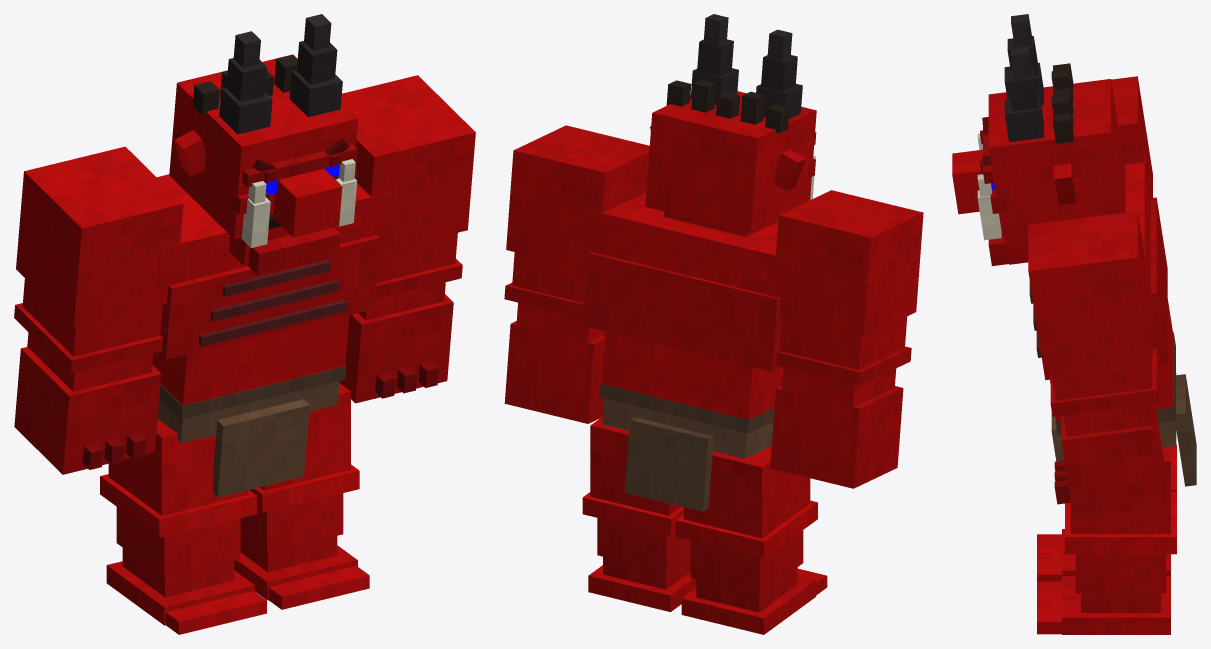
The model's file is ogre_s1_evo1.glb.
3 renders of one model, left to right at view 1: azimuth 30°, elevation 25°; view 2: azimuth 150°, elevation 25°; view 3: azimuth 270°, elevation 25°, orthographic. The views are drawn at different scales.
Visible parts, largest first — view 1: ArmR, Torso, Head, ArmL, LegR, LegL; view 2: Torso, ArmR, ArmL, Head, LegR, LegL; view 3: ArmL, Head, LegL, Torso, ArmR, LegR.
Boxes of the visible parts, x1=… form: ArmR: x1=14, y1=146, x2=183, y2=474; Torso: x1=152, y1=174, x2=390, y2=497; Head: x1=169, y1=14, x2=358, y2=275; ArmL: x1=339, y1=75, x2=475, y2=403; LegR: x1=100, y1=419, x2=266, y2=634; LegL: x1=234, y1=383, x2=369, y2=609; Torso: x1=581, y1=192, x2=793, y2=511; ArmR: x1=770, y1=190, x2=923, y2=488; ArmL: x1=504, y1=125, x2=649, y2=423; Head: x1=645, y1=14, x2=816, y2=236; LegR: x1=675, y1=446, x2=827, y2=634; LegL: x1=582, y1=416, x2=696, y2=611; ArmL: x1=1028, y1=211, x2=1164, y2=518; Head: x1=952, y1=14, x2=1125, y2=265; LegL: x1=1037, y1=446, x2=1176, y2=634; Torso: x1=1029, y1=153, x2=1196, y2=500; ArmR: x1=1111, y1=76, x2=1152, y2=197; LegR: x1=1037, y1=444, x2=1176, y2=581.
Size of the model in its own units: 1.46 by 2.09 by 0.8306.
Materials: 26 (26 with a texture image).
